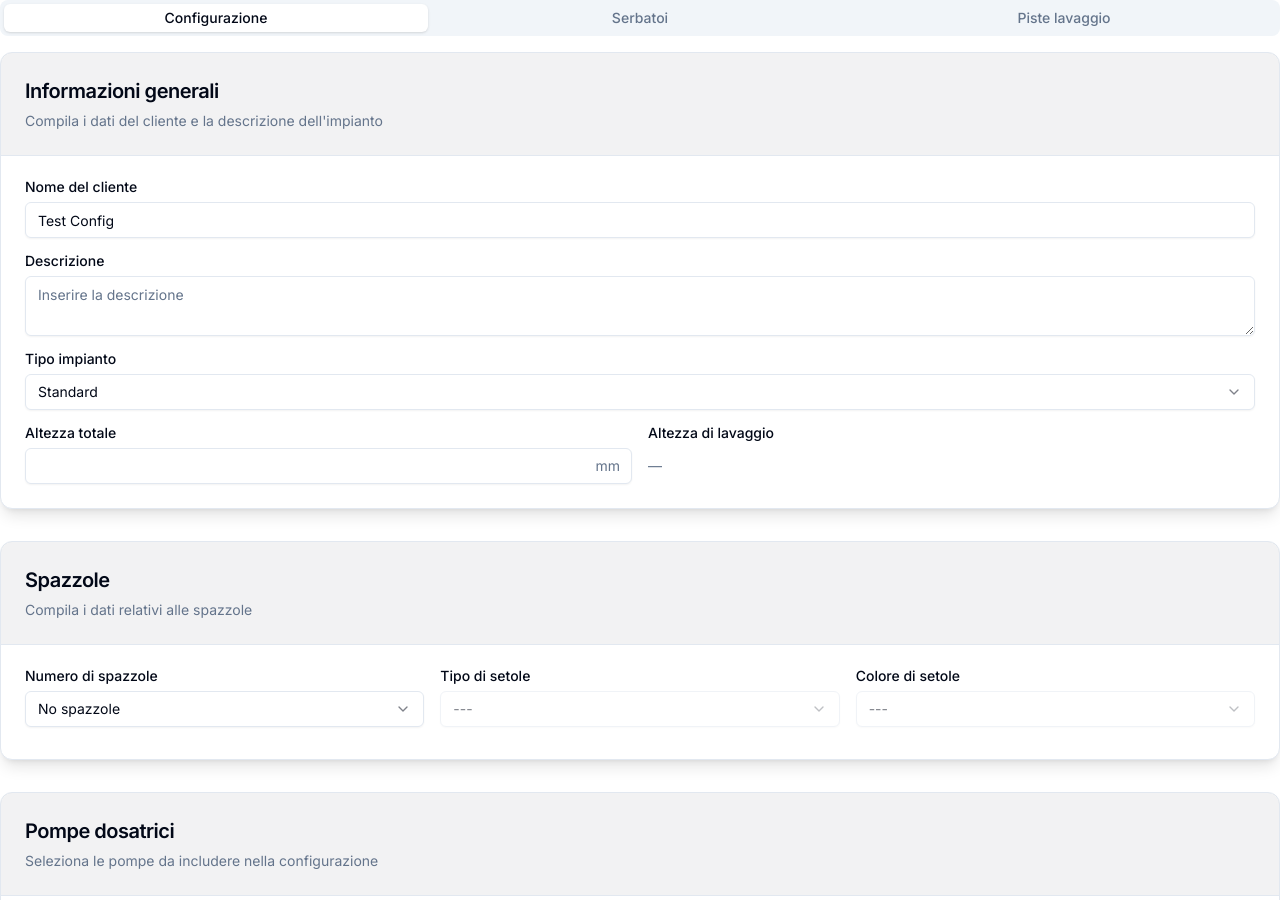
Test: FormContainer › Edit configuration with tabs › switching to Piste lavaggio tab shows wash bay management
What coordinates should you click on to do the following:
click the tab "Piste lavaggio"
I would click on:
 (1064, 18)
Its box is x1=852 y1=4 x2=1276 y2=32.
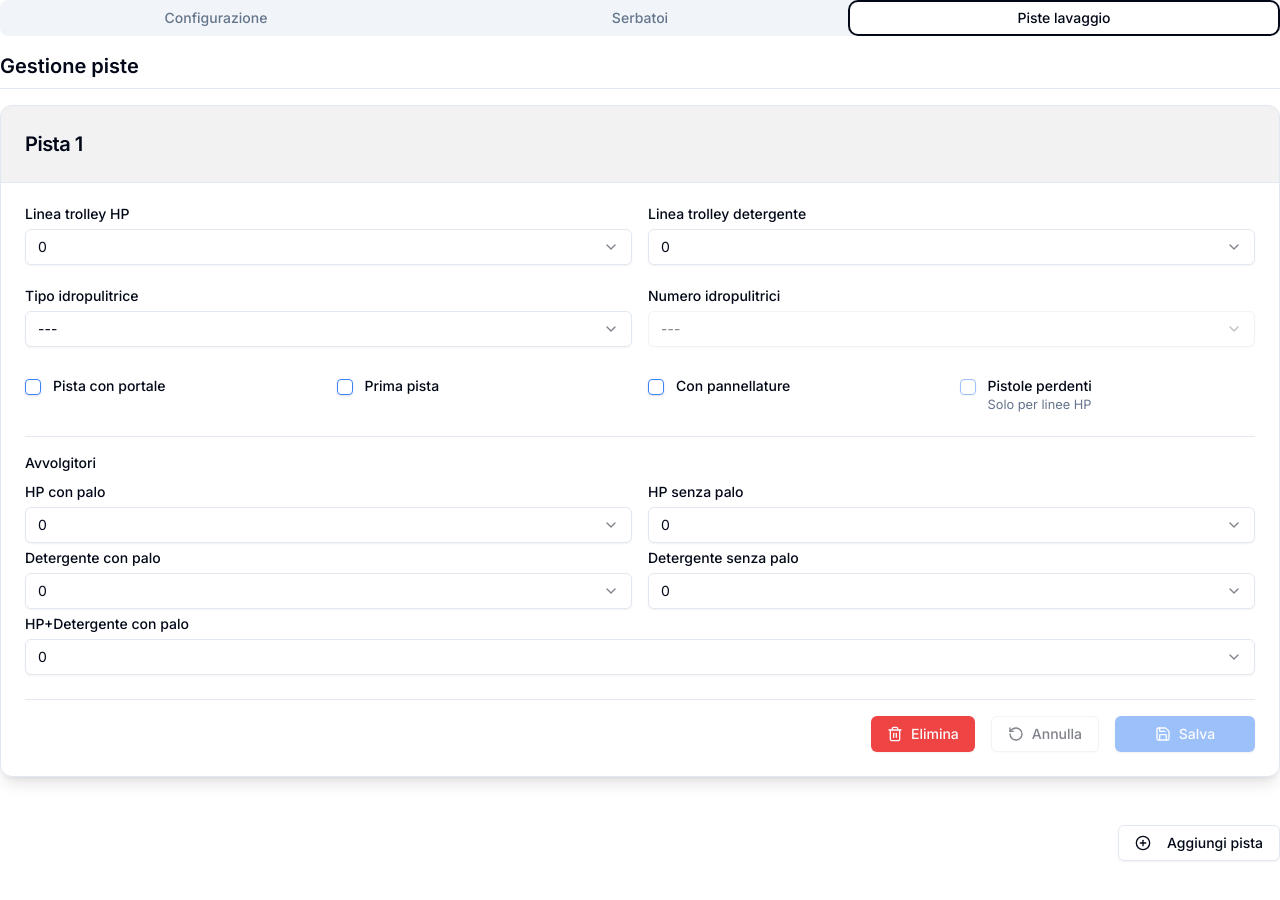
Check: the heading "Gestione piste" is shown, box x1=0 y1=52 x2=1279 y2=89
Check: the text "Pista 1" is shown, box x1=25 y1=132 x2=83 y2=156
